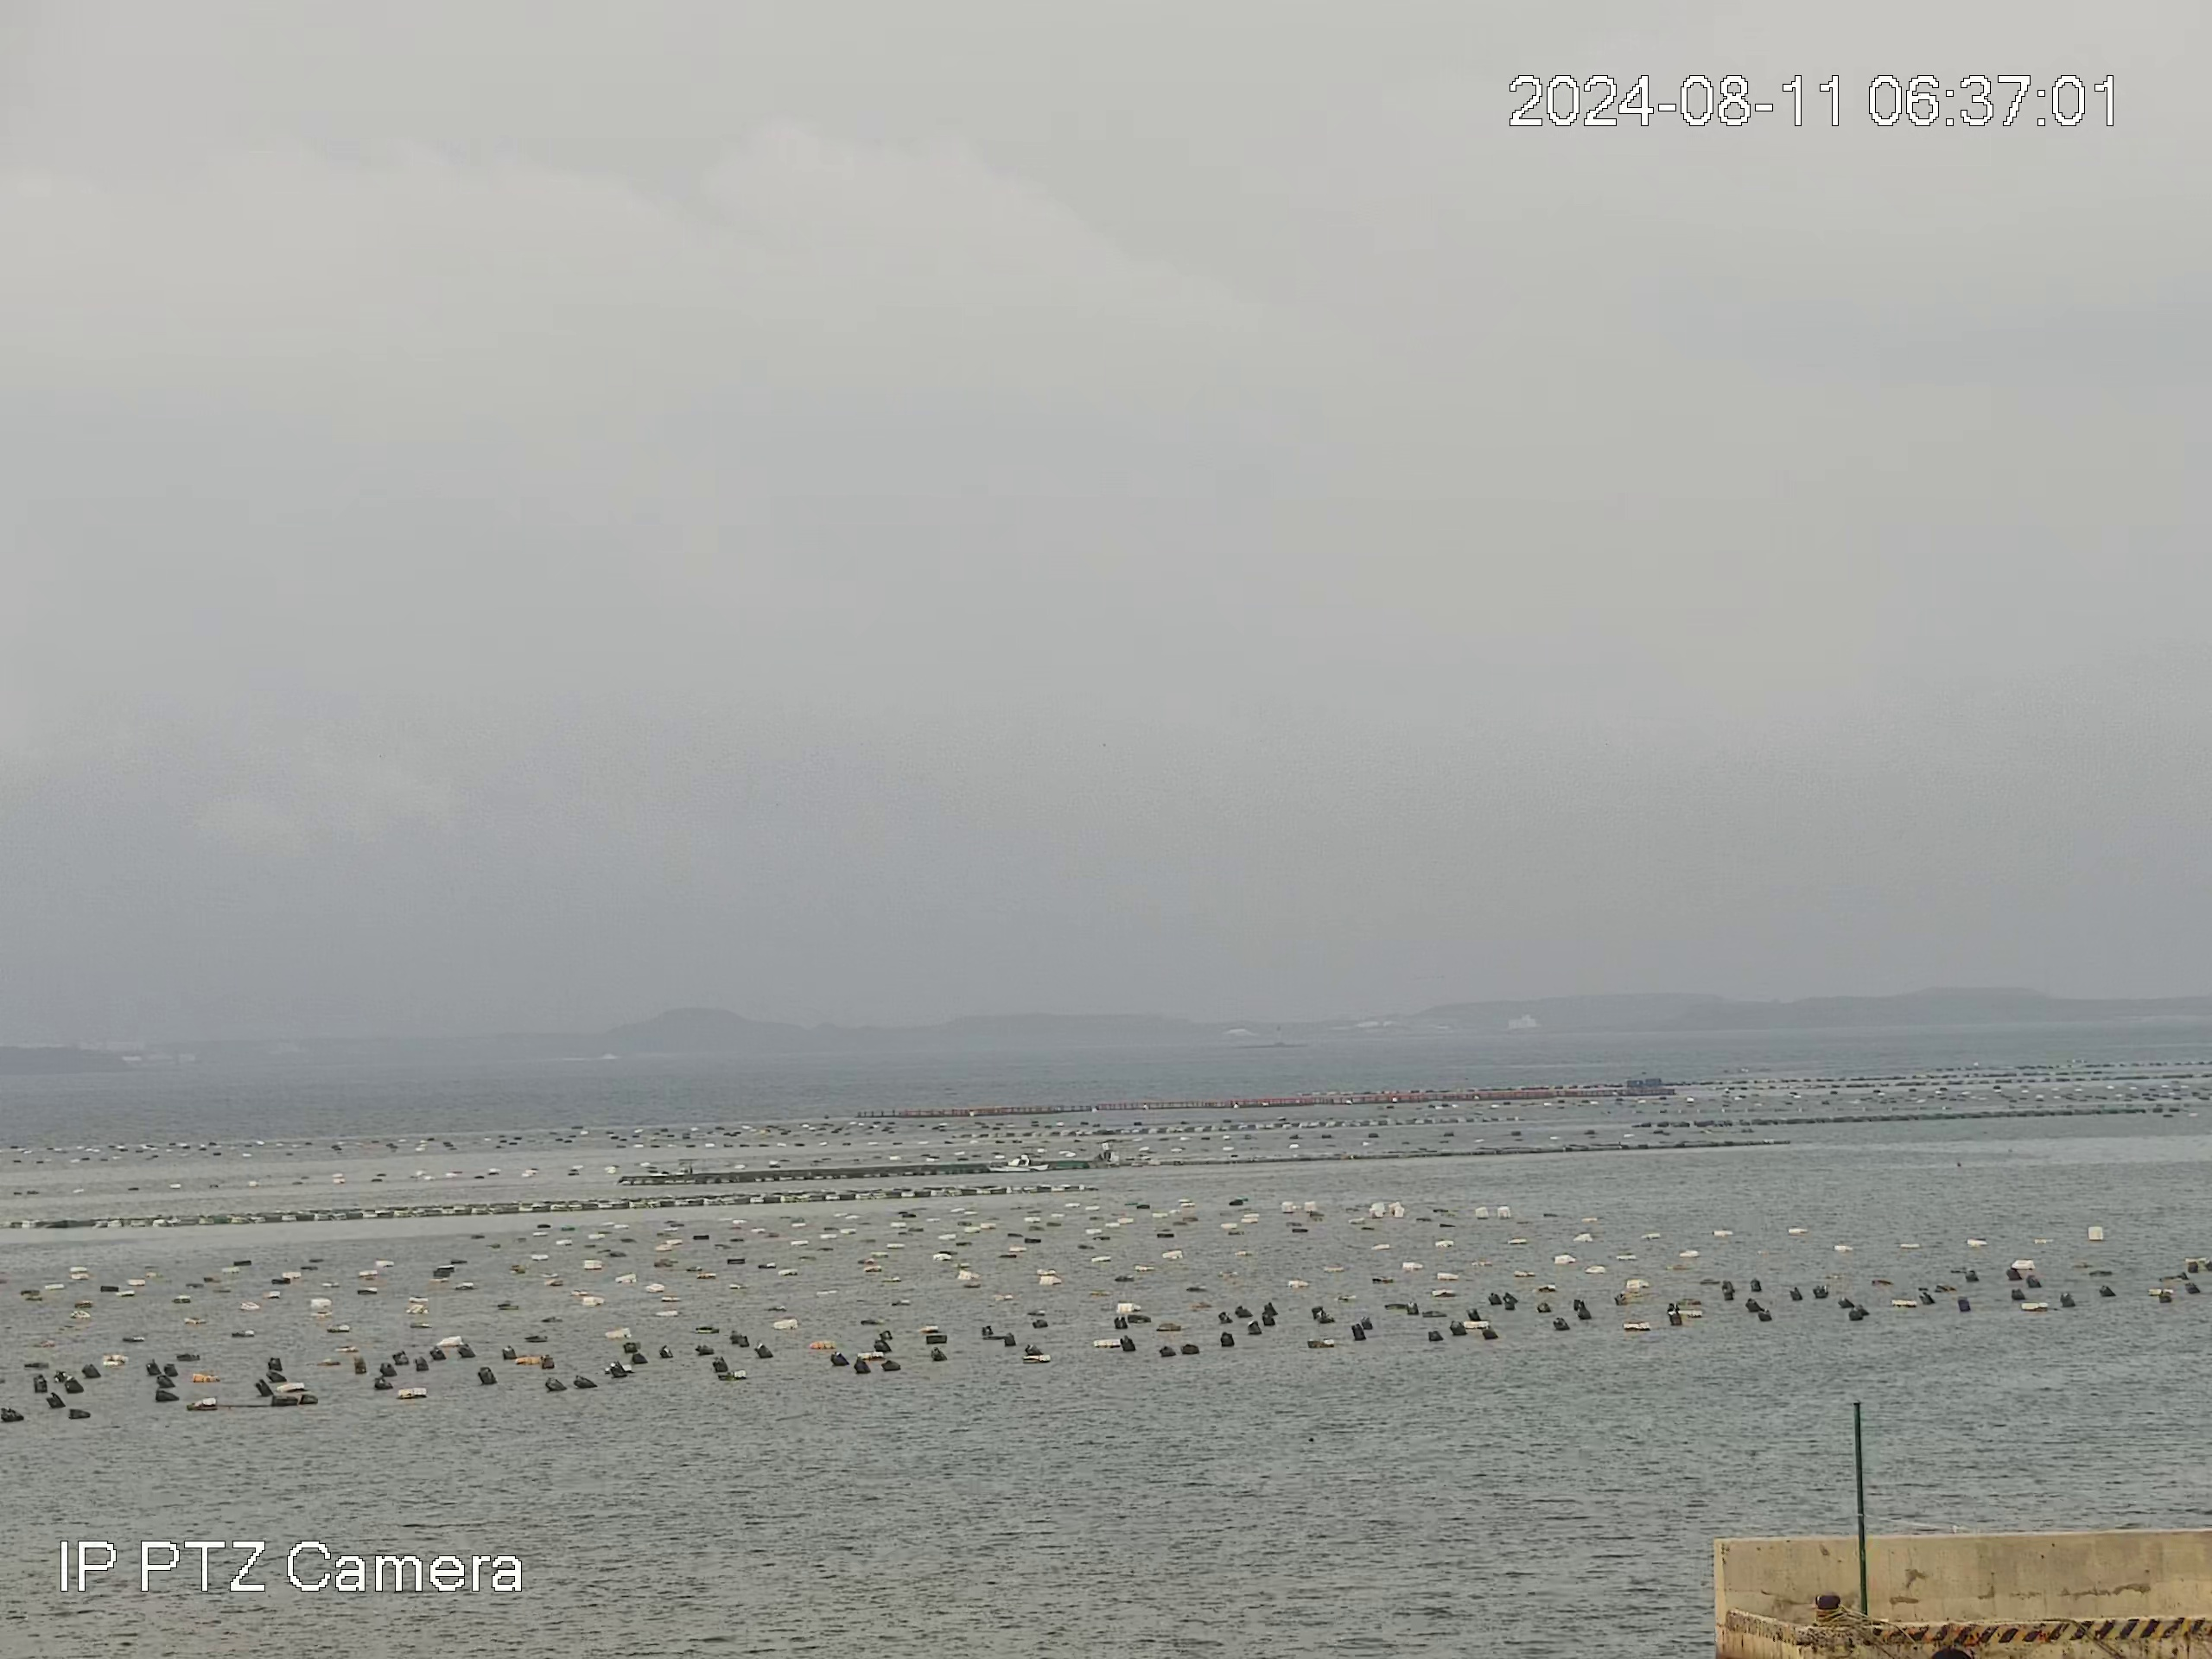boat: (984, 1152, 1050, 1175)
